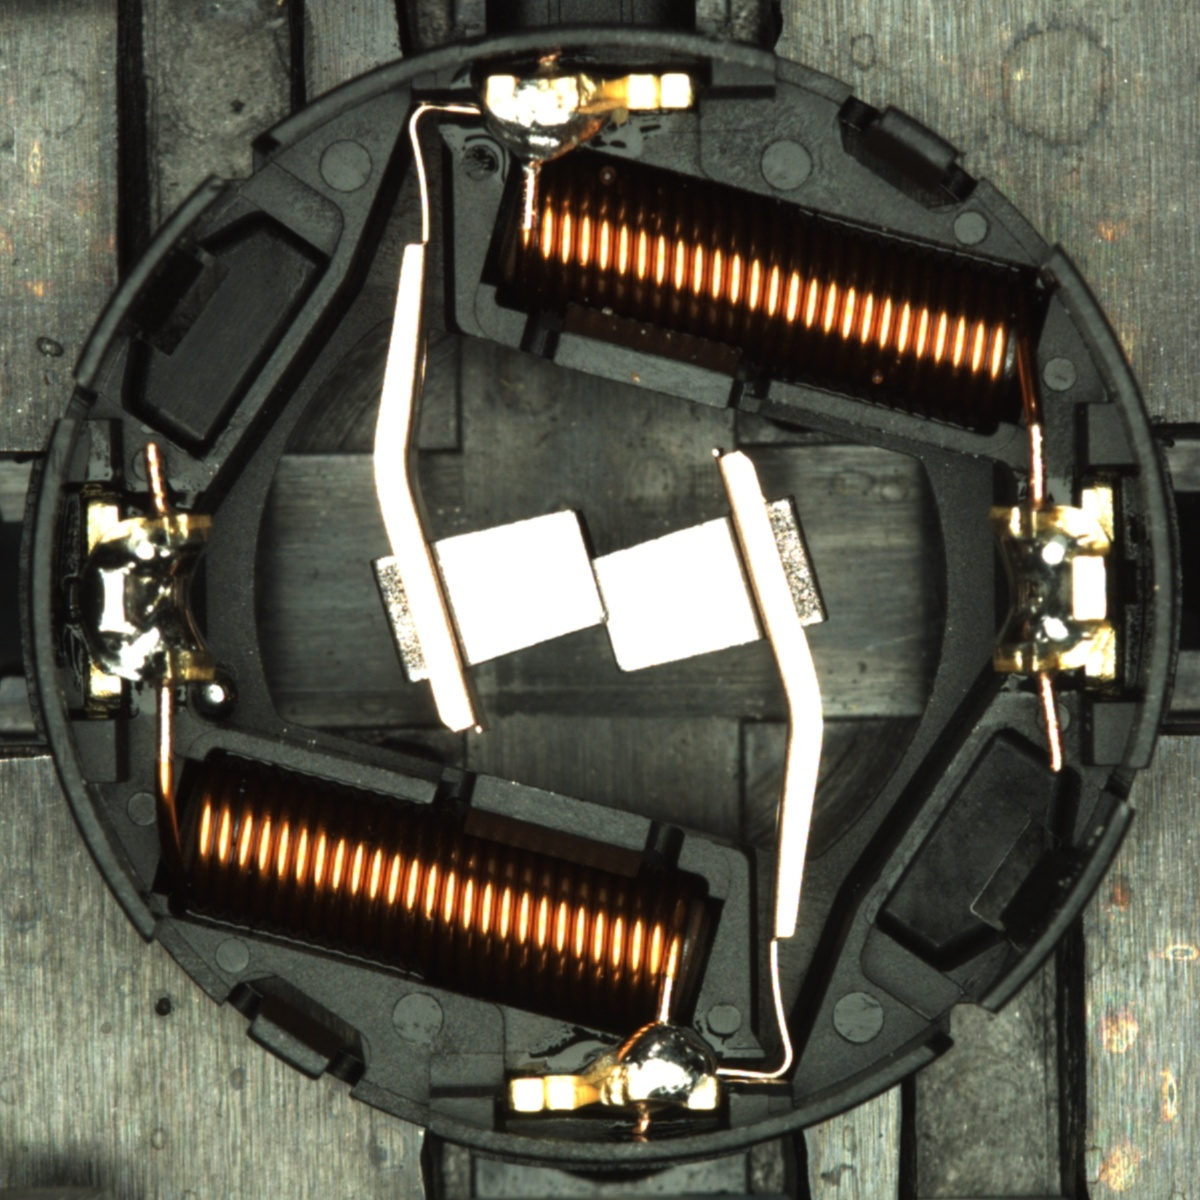1: (253, 30, 482, 254), (711, 927, 941, 1152)
2: (711, 30, 941, 254), (253, 927, 482, 1152)
3: (941, 702, 1169, 927), (23, 254, 253, 478)
4: (711, 702, 941, 927), (253, 254, 482, 478)
5: (482, 142, 711, 366), (482, 815, 711, 1040)
6: (253, 702, 482, 927), (711, 254, 941, 478)
7: (23, 702, 253, 927), (941, 254, 1169, 478)
cacbon: (391, 497, 802, 684)
chau_dien: (82, 496, 221, 700), (984, 486, 1123, 685)
hat_chi: (196, 675, 238, 716)
tay_choi: (481, 69, 699, 170), (508, 1018, 722, 1116)
thanh_de: (954, 787, 1141, 1030), (59, 165, 244, 403)
